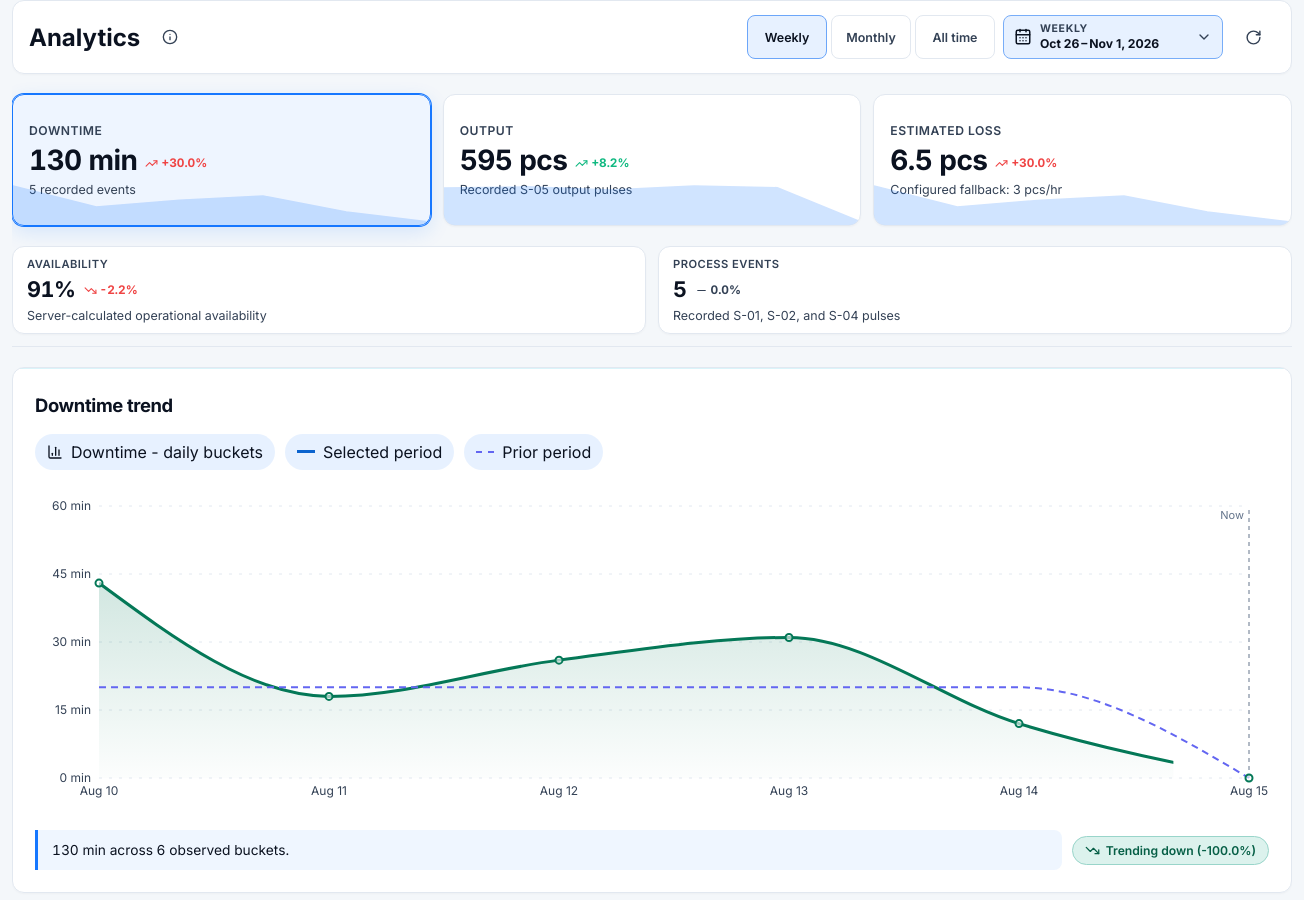
Test: AnalyticsSection recorded-data states › switches the trend explorer metric from an interactive KPI card
This screenshot has width=1304, height=900.
Check: the heading "Downtime trend" is shown, box [35, 394, 173, 416]
What coordinates should you click on to do the following:
click the button that starts with "Availability"
I would click on:
 (68, 264)
Its box is [12, 246, 646, 334].
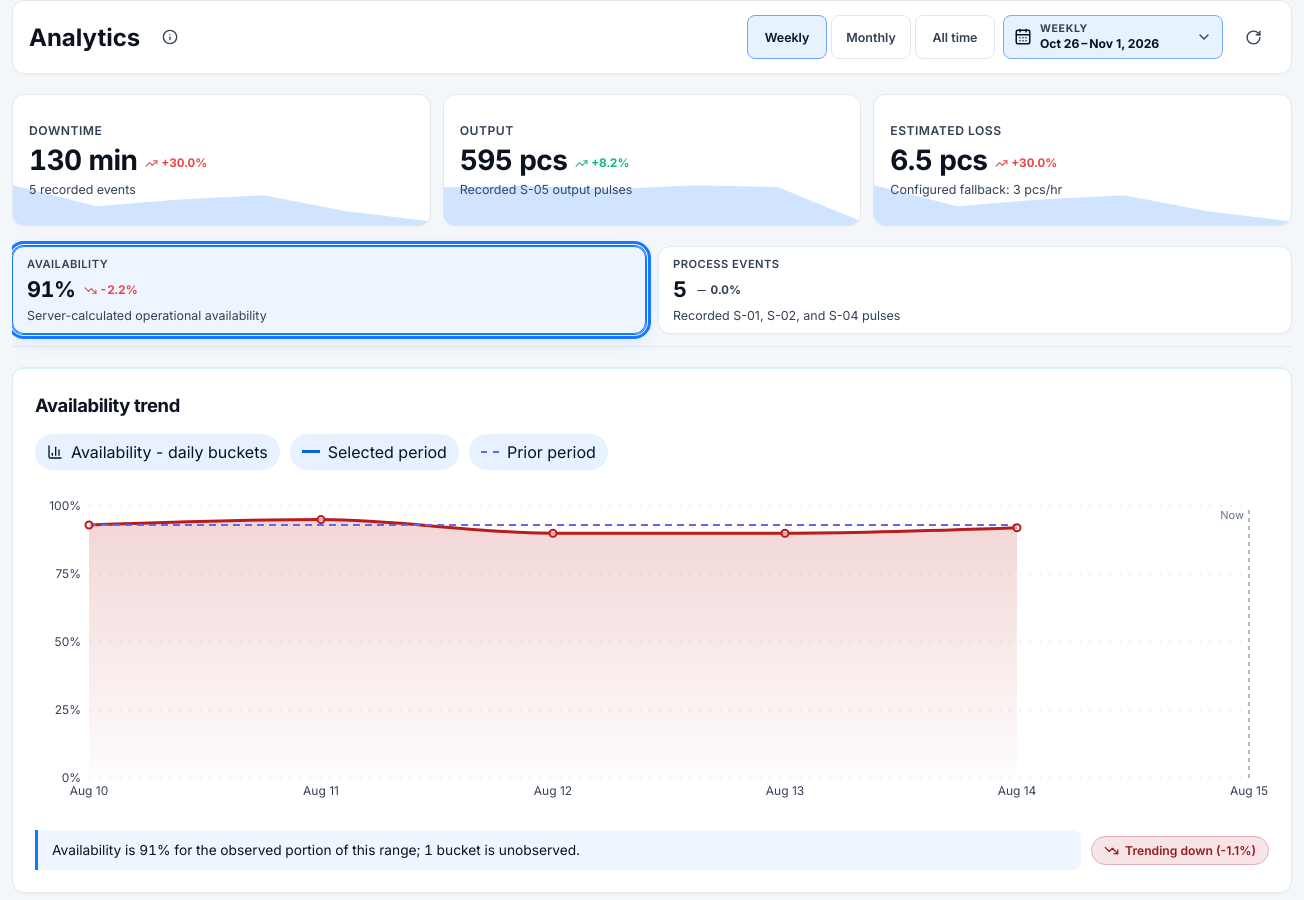
Check: the text "Availability - daily buckets" is shown, box [35, 434, 280, 470]
